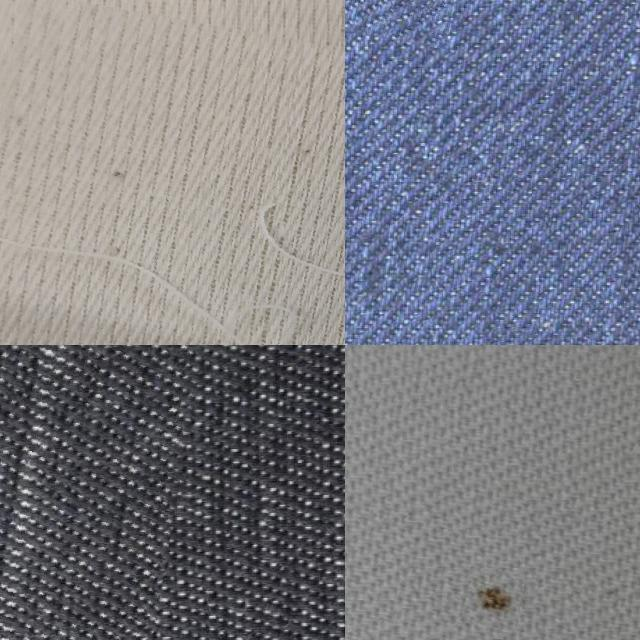Thread_other: (464, 567, 524, 628)
stains: (0, 13, 345, 345), (0, 345, 191, 640)
